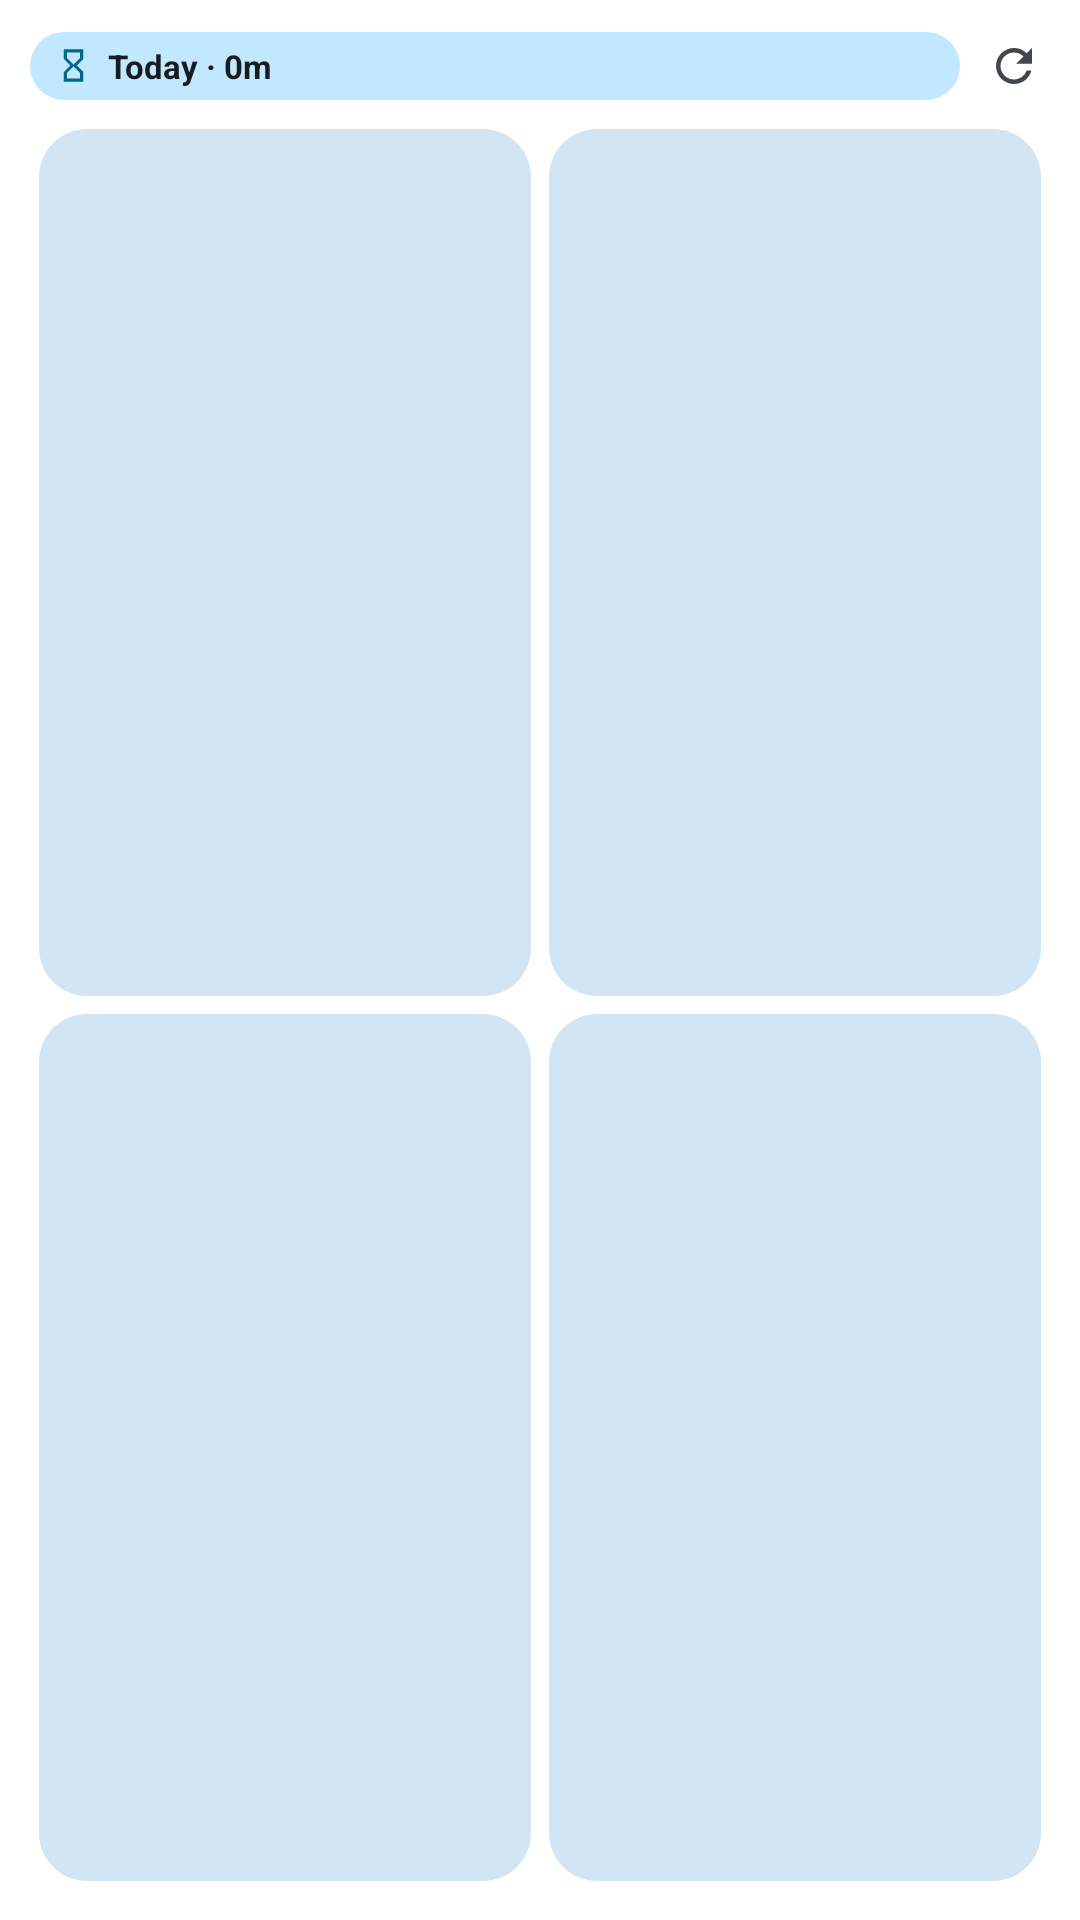

Where icons sit on this 1080×1920 app screen, as (x1, y1, x2, y2):
Refresh: (996, 48, 1032, 84)
widget hourglass: (63, 49, 84, 82)
